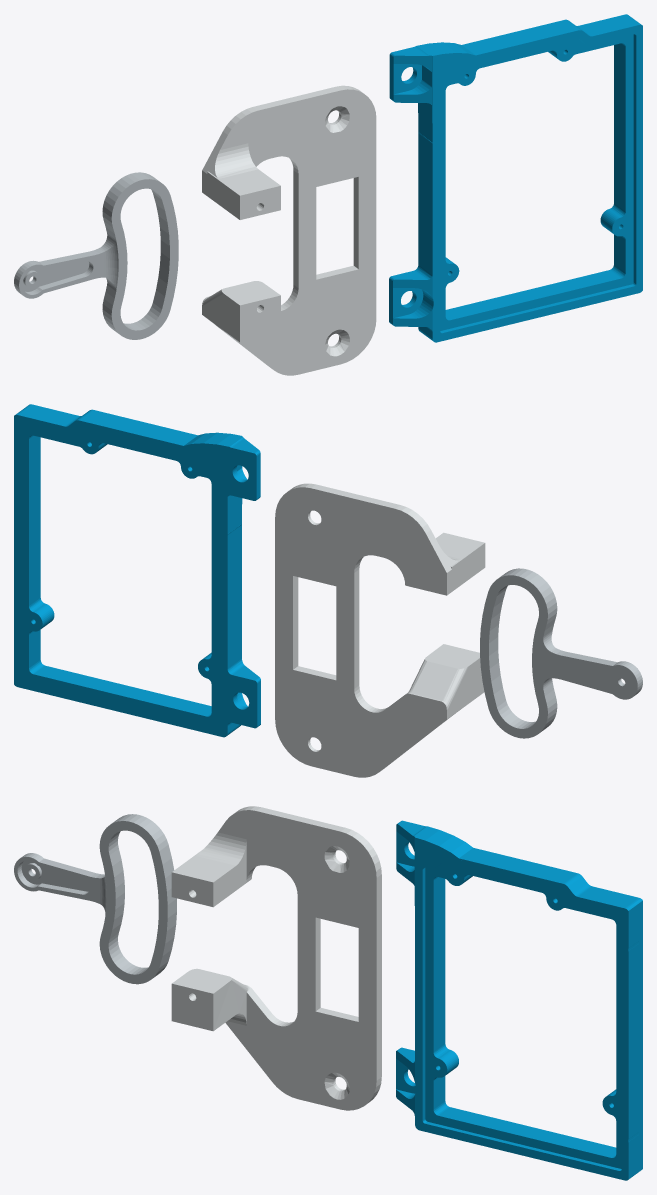
File: tinker.obj
3 views of the same model, one above another, from view 1: azimuth 30°, elevation 25°; view 2: azimuth 150°, elevation 25°; view 3: azimuth 330°, elevation 25° (orthographic).
Parts seen in each view (by area): view 1: group_0_14541540, group_0_40919, group_0_12568524; view 2: group_0_14541540, group_0_40919, group_0_12568524; view 3: group_0_14541540, group_0_40919, group_0_12568524.
Boxes of the visible parts, left/top/right/bottom form: group_0_14541540: left=202, top=85, right=376, bottom=375; group_0_40919: left=389, top=14, right=642, bottom=342; group_0_12568524: left=14, top=172, right=178, bottom=339; group_0_14541540: left=275, top=483, right=485, bottom=777; group_0_40919: left=14, top=404, right=260, bottom=737; group_0_12568524: left=480, top=568, right=642, bottom=738; group_0_14541540: left=171, top=806, right=381, bottom=1110; group_0_40919: left=396, top=820, right=642, bottom=1180; group_0_12568524: left=14, top=814, right=176, bottom=984.
Bounding box in the file's own units: 174 × 79.66 × 18.5.
